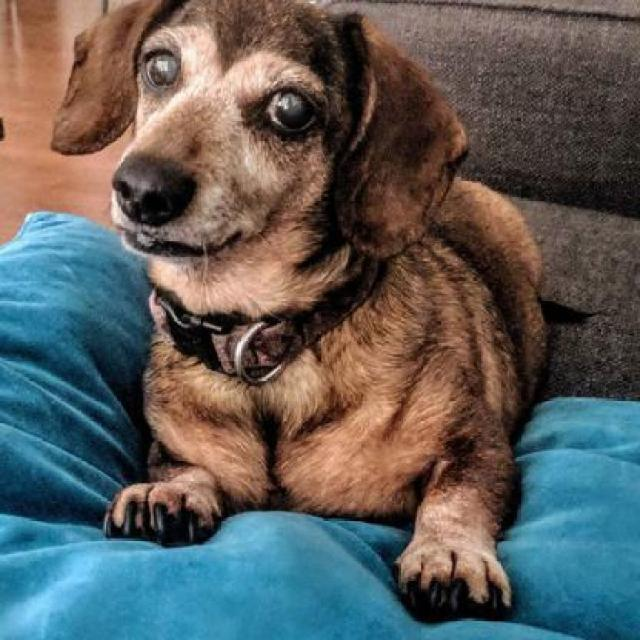Dog: (48, 3, 543, 628)
